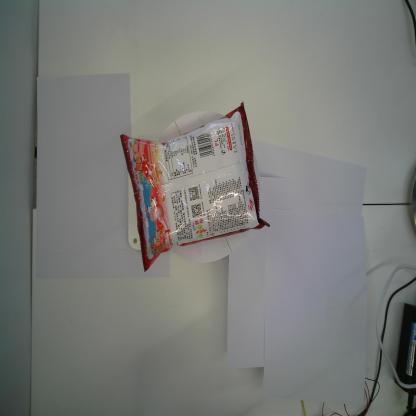Puffed Food: (119, 100, 271, 272)
